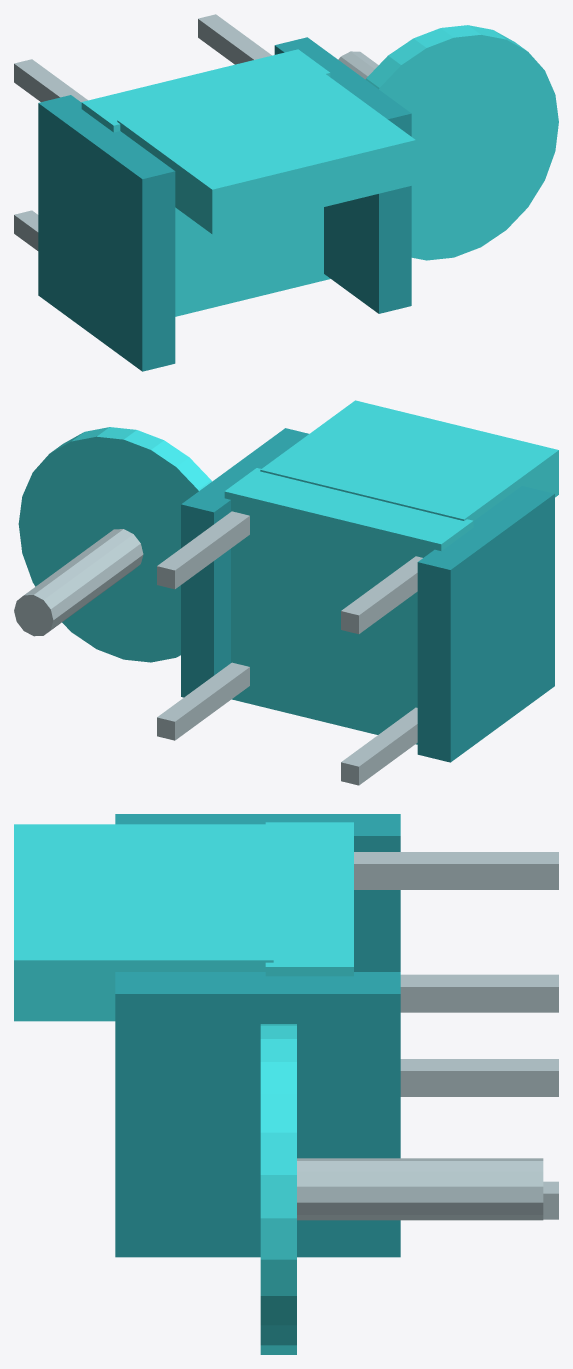
File: accent-chair-side-table.glb
The picture shows the model from 3 angles, top to bottom: view 1: azimuth 30°, elevation 25°; view 2: azimuth 150°, elevation 25°; view 3: azimuth 270°, elevation 25°; orthographic projection. The views are drawn at different scales.
Visible parts, largest first — view 1: world; view 2: world; view 3: world.
Part boxes in pixels (x1,y1,x2,y2): world: [14, 14, 558, 371]; world: [14, 400, 558, 785]; world: [14, 814, 558, 1354].
Size of the model in its own units: 1.43 by 0.64 by 1.05.
